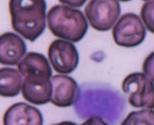L: (72, 81, 126, 124)
